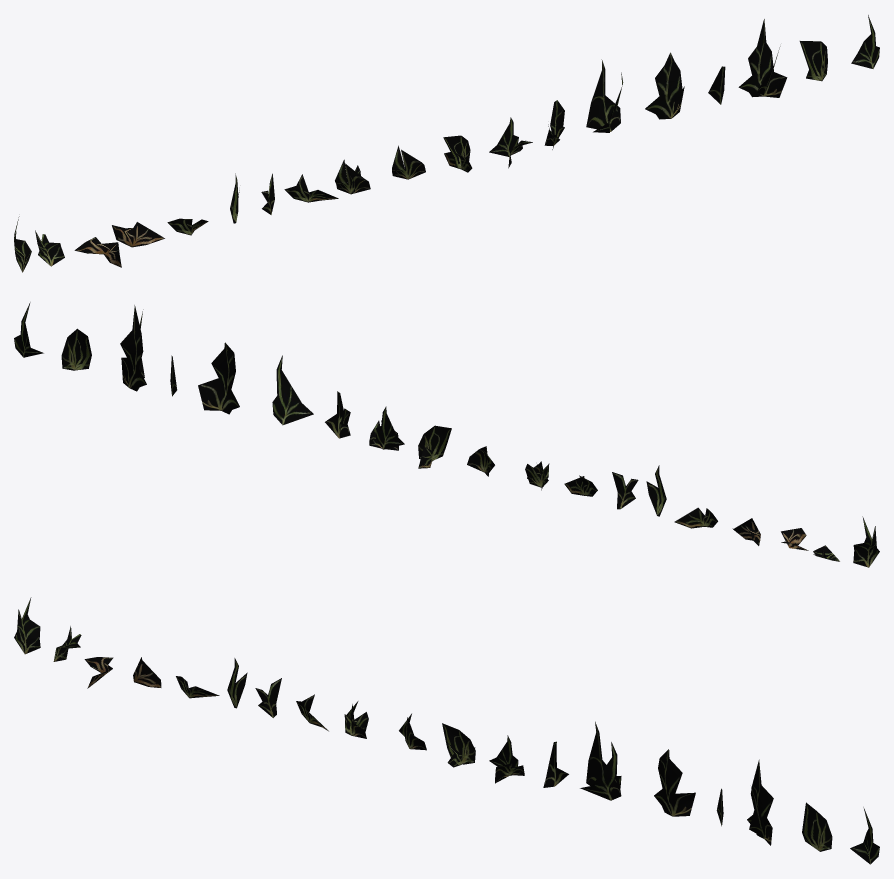
The model's file is grass_bermuda_01.glb.
The picture shows the model from 3 angles, top to bottom: view 1: azimuth 30°, elevation 25°; view 2: azimuth 150°, elevation 25°; view 3: azimuth 330°, elevation 25°; orthographic projection.
Parts seen in each view (by area): view 1: grass_bermuda_01_dead_a; view 2: grass_bermuda_01_dead_a; view 3: grass_bermuda_01_dead_a.
Boxes of the visible parts, <box> form: grass_bermuda_01_dead_a: <box>14,15,879,272</box>; grass_bermuda_01_dead_a: <box>14,302,879,567</box>; grass_bermuda_01_dead_a: <box>14,597,879,864</box>.
Size of the model in its own units: 1.61 by 0.1514 by 0.1158.
1 material, 1 textured.
